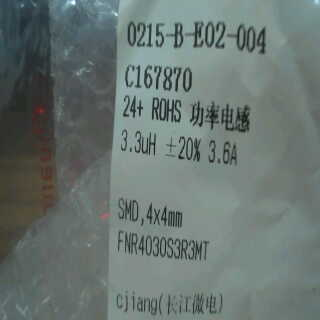3.3uH: (119, 125, 163, 162)
